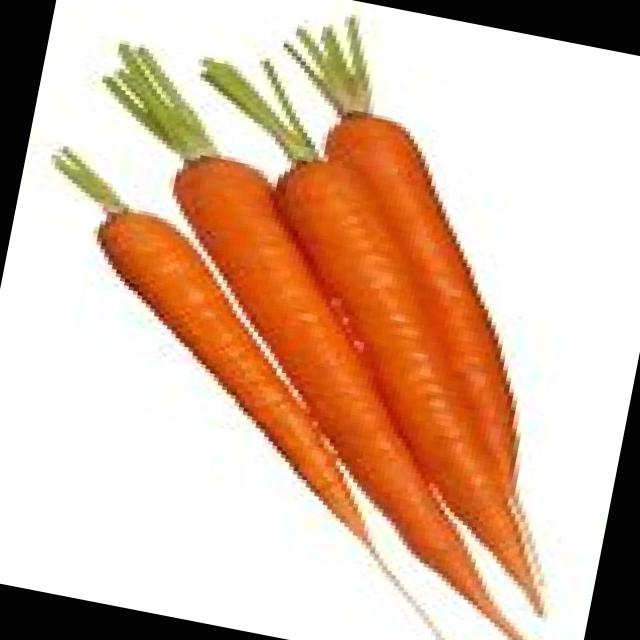carrot: (171, 155, 495, 612), (281, 164, 539, 595), (95, 208, 368, 543)
